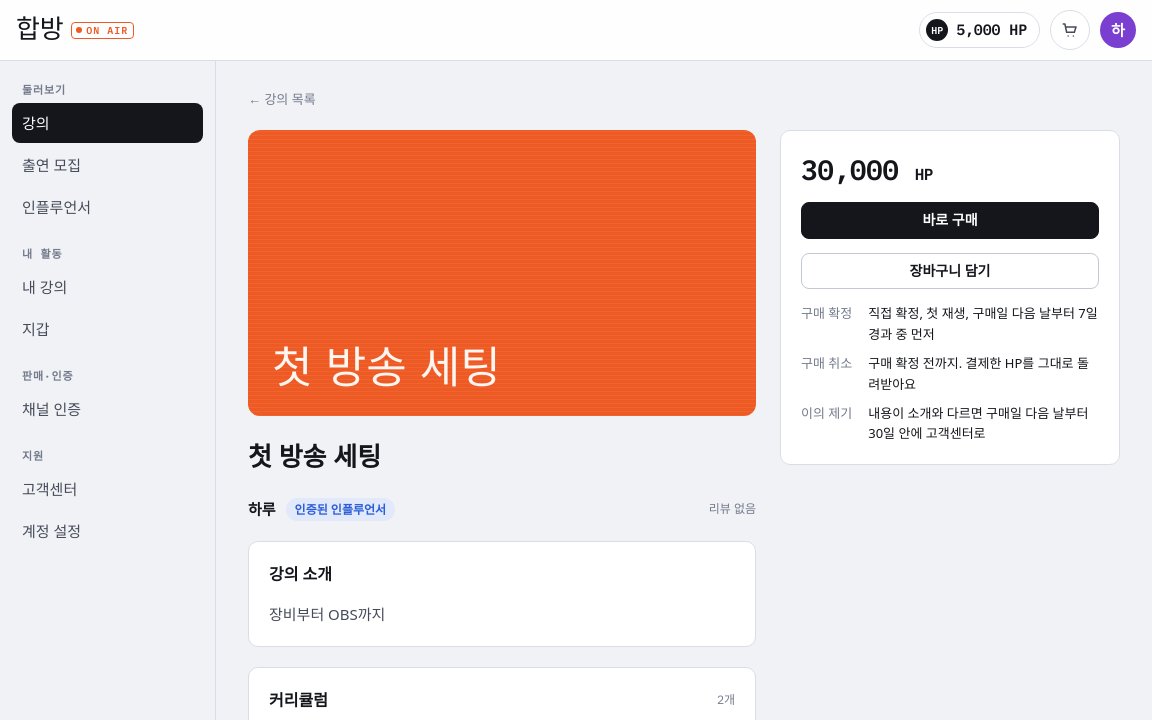
Test case: 바로 구매 › HP가 모자라면 결제 대신 충전으로 안내한다
Click the button "바로 구매": (950, 220) 801,202 -> 1099,239
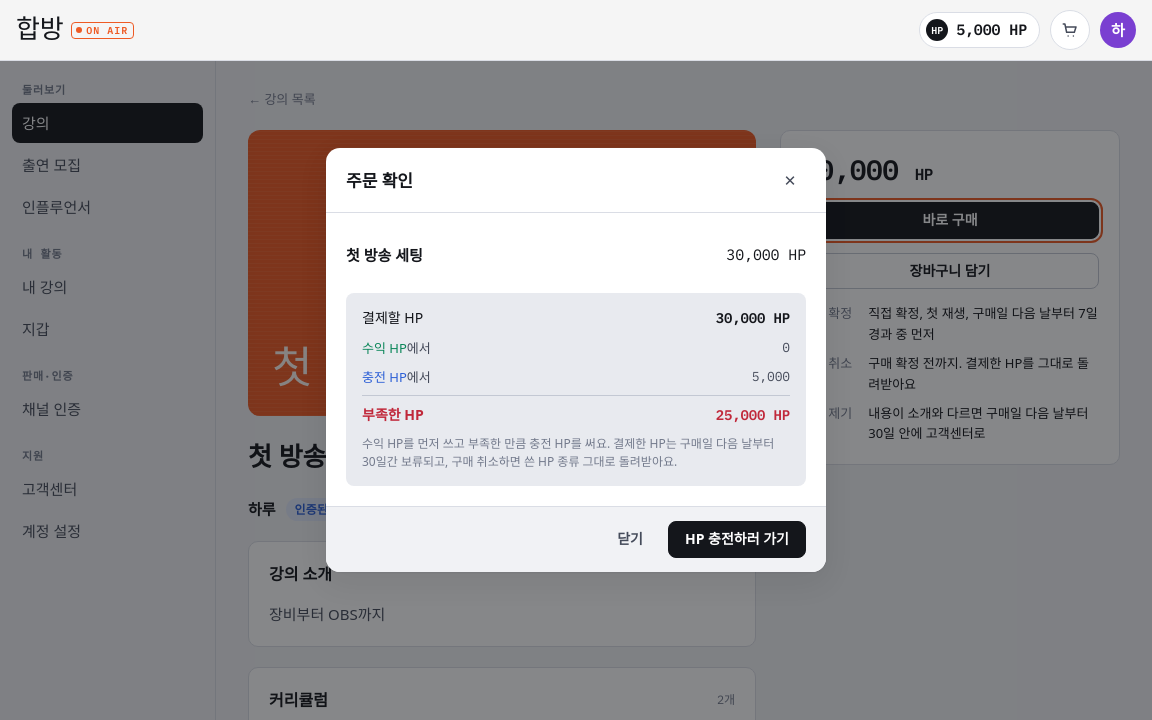
Expected: the text "25,000 HP" is shown, 716,404 -> 790,427
